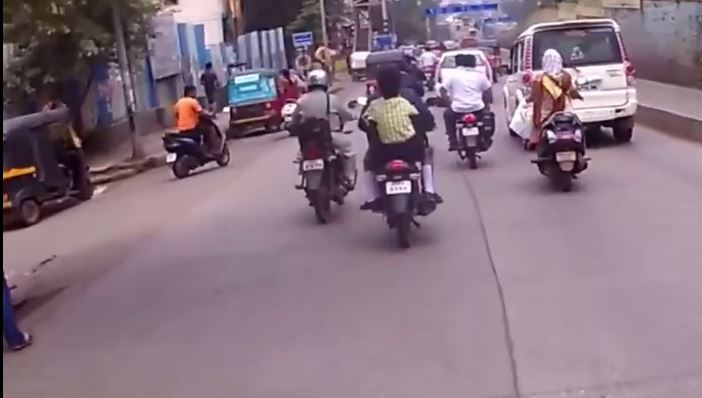autorickshaw: (4, 112, 100, 228), (223, 69, 280, 139)
car: (504, 15, 643, 132)
